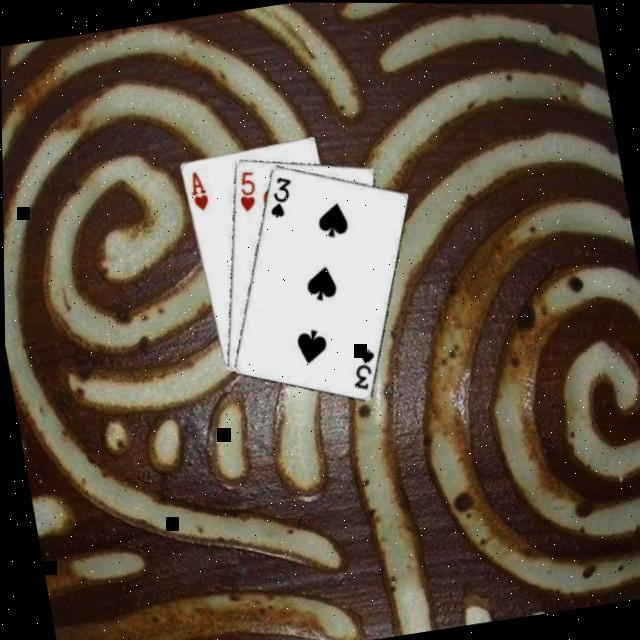3S: (345, 345, 384, 394), (263, 174, 301, 223)
5H: (232, 167, 264, 216)
AH: (186, 168, 214, 215)
